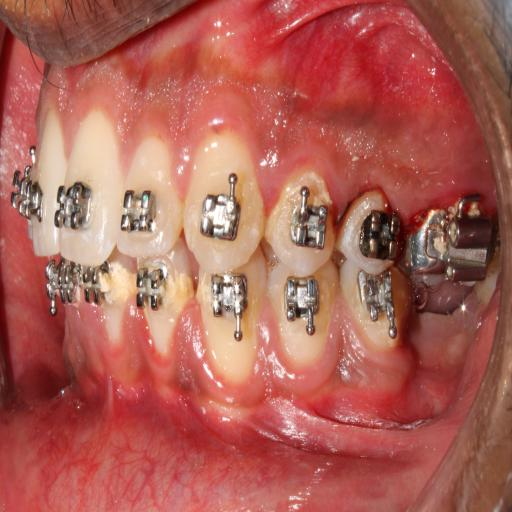correct_brace: (268, 167, 336, 270), (196, 187, 238, 244), (52, 183, 92, 230), (122, 186, 158, 238)
incorrect_brace: (115, 130, 183, 265), (288, 192, 329, 254)
